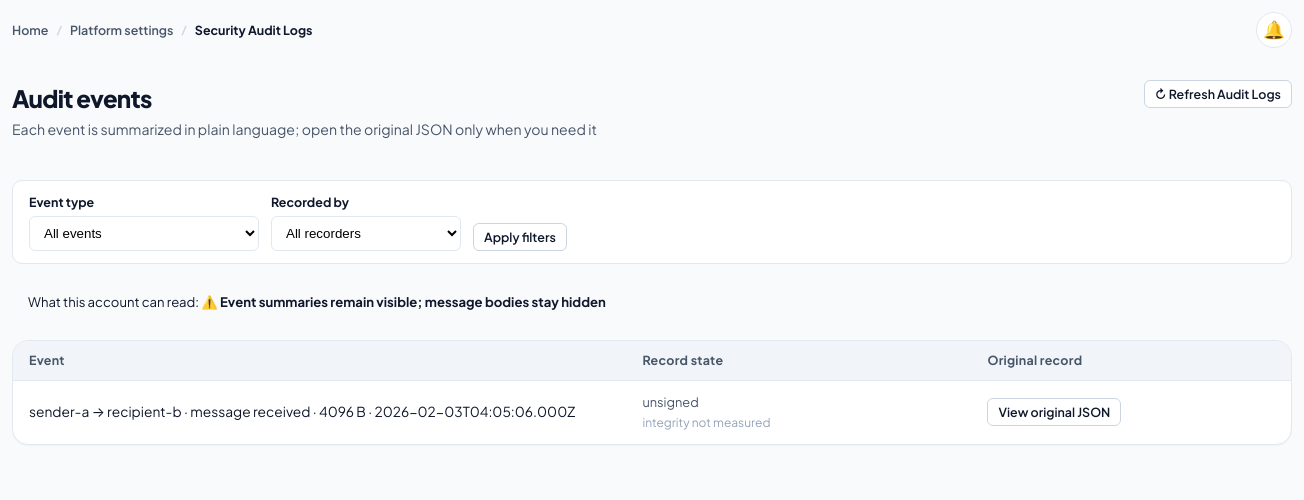
Test: SPEC § 11.0's content boundary › withholds the body from a session that does not hold the content grant
Click the button "View original JSON".
click(1054, 412)  # box [988,398,1121,426]
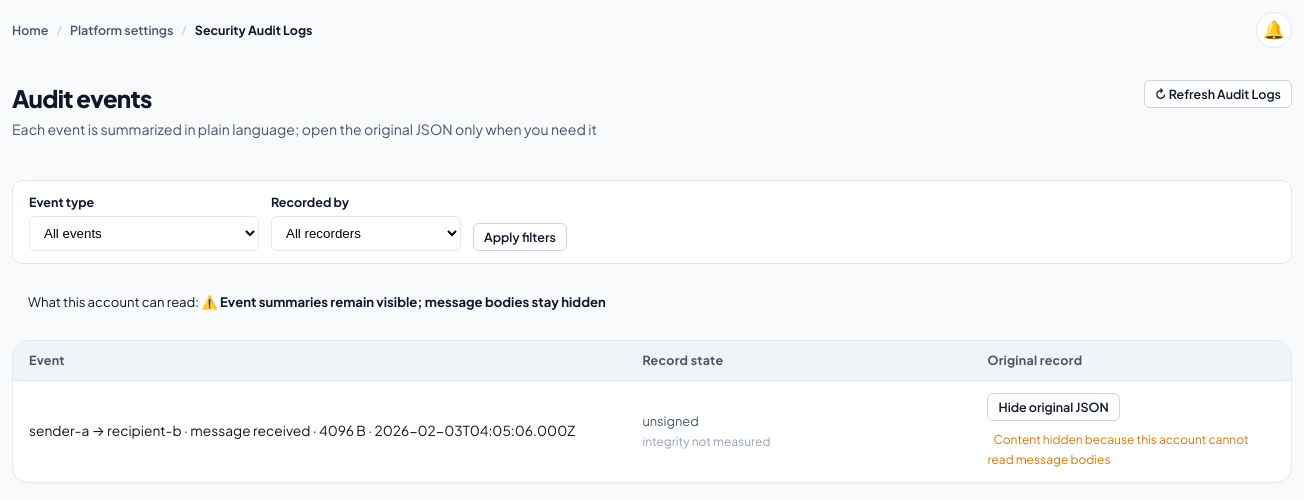
Expected: the text "⚠️ Event summaries remain visible; message bodies stay hidden" is shown, [201,293,606,310]
Now the text with test id "audit-withheld" reads "Content hidden because this account cannot read message bodies", box [988,432,1249,467]
